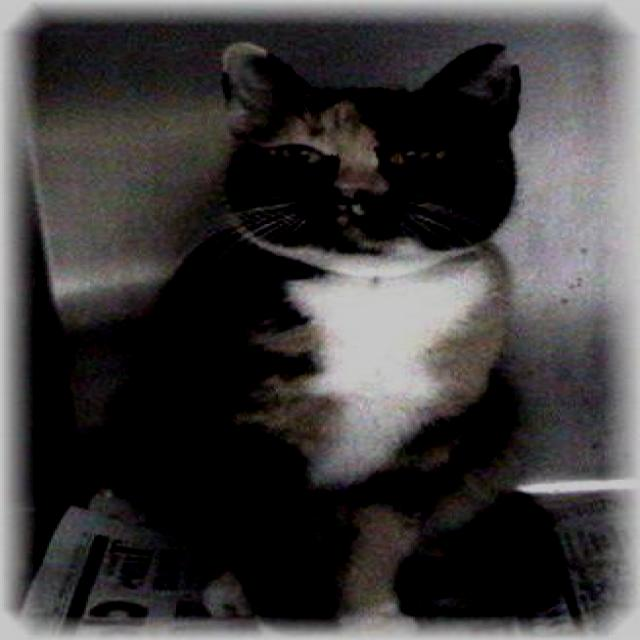Kucing: (46, 27, 616, 601)
